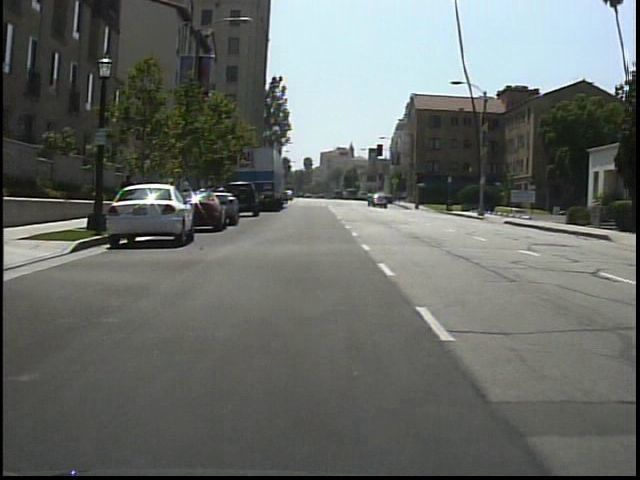person: (120, 167, 139, 219)
